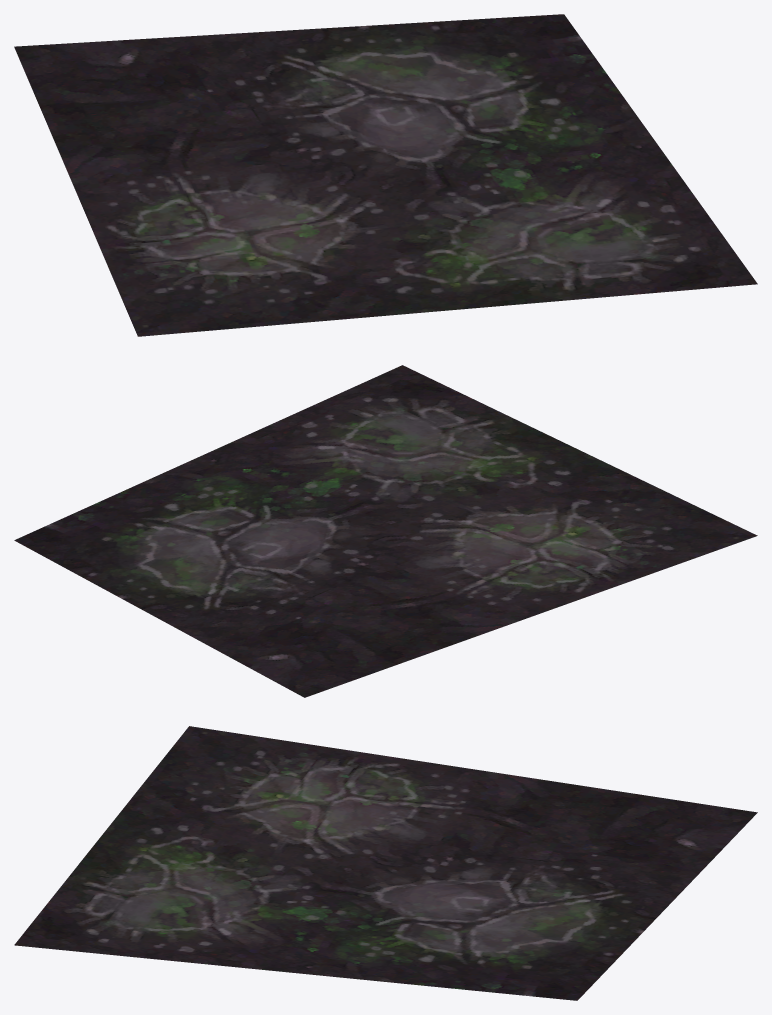
Rendered from cave_floor_mushrooms_02.fbx.
3 renders of one model, top to bottom at view 1: azimuth 30°, elevation 25°; view 2: azimuth 150°, elevation 25°; view 3: azimuth 270°, elevation 25°, orthographic. The views are drawn at different scales.
Parts seen in each view (by area): view 1: cave_tileset/Floormushrooms_01_mat; view 2: cave_tileset/Floormushrooms_01_mat; view 3: cave_tileset/Floormushrooms_01_mat.
Part boxes in pixels (x1,y1,x2,y2): cave_tileset/Floormushrooms_01_mat: [14, 14, 757, 336]; cave_tileset/Floormushrooms_01_mat: [14, 365, 757, 697]; cave_tileset/Floormushrooms_01_mat: [14, 726, 757, 1000].
Size of the model in its own units: 4.99 by 0 by 5.71.
